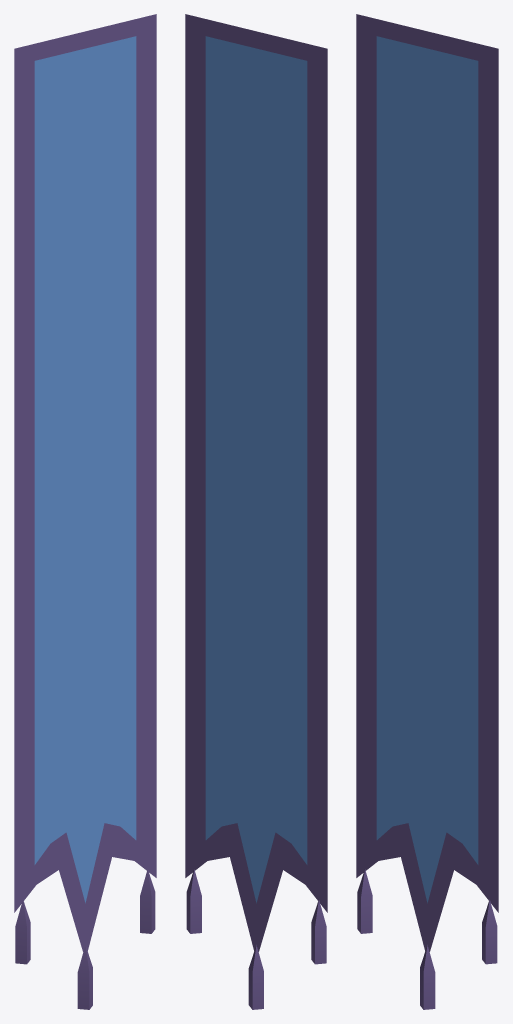
Rendered from Banner.fbx.
3 views of the same model, side by side, from view 1: azimuth 30°, elevation 25°; view 2: azimuth 150°, elevation 25°; view 3: azimuth 330°, elevation 25° (orthographic).
Parts seen in each view (by area): view 1: Ballroom.002; view 2: Ballroom.002; view 3: Ballroom.002.
Boxes of the visible parts, x1,y1,x2,y2 form: Ballroom.002: (14,14,156,1009); Ballroom.002: (185,14,327,1009); Ballroom.002: (356,14,498,1009).
Size of the model in its own units: 88.2 by 578 by 8.49.
